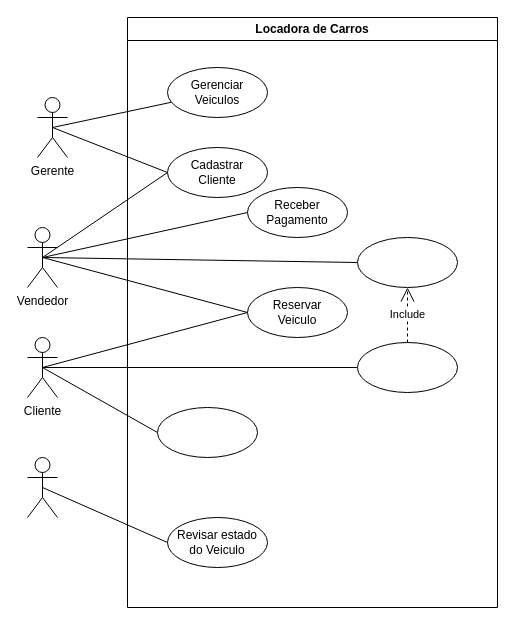
Image size: 515x625. Some labels were removed from this diagram. The box of each missing label's shape, as (x1, y1, x2, y2) in pixels:
Alugar Veiculo: (356, 342, 458, 392)
Devolver Veiculo: (156, 406, 258, 458)
Gerar Contrato: (356, 236, 458, 288)
Mecanico: (26, 456, 58, 518)
